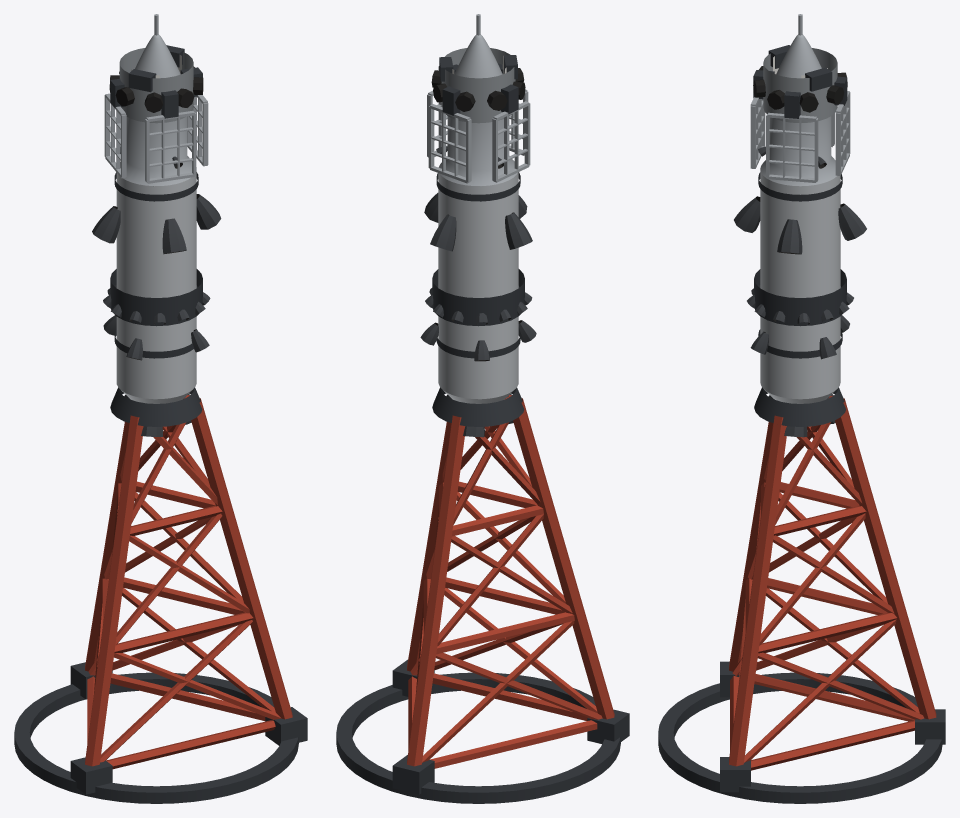
File: les_mercury.glb
The picture shows the model from 3 angles, left to right: view 1: azimuth 30°, elevation 25°; view 2: azimuth 150°, elevation 25°; view 3: azimuth 270°, elevation 25°; orthographic projection.
Parts seen in each view (by area): view 1: body, slot_steering__gridfins, slot_steering__acm, slot_motor__ring, slot_motor__staged, slot_motor__reverse, slot_steering__canards; view 2: body, slot_steering__gridfins, slot_steering__acm, slot_motor__ring, slot_motor__staged, slot_motor__reverse, slot_steering__canards; view 3: body, slot_steering__gridfins, slot_steering__acm, slot_motor__ring, slot_motor__staged, slot_motor__reverse, slot_steering__canards.
Part boxes in pixels (x1=…): body: x1=14, y1=14, x2=307, y2=803; slot_steering__gridfins: x1=104, y1=67, x2=208, y2=183; slot_steering__acm: x1=109, y1=48, x2=203, y2=123; slot_motor__ring: x1=103, y1=269, x2=210, y2=326; slot_motor__staged: x1=92, y1=194, x2=221, y2=360; slot_motor__reverse: x1=93, y1=194, x2=214, y2=253; slot_steering__canards: x1=128, y1=45, x2=184, y2=92; body: x1=336, y1=14, x2=629, y2=803; slot_steering__gridfins: x1=427, y1=63, x2=530, y2=183; slot_steering__acm: x1=431, y1=48, x2=525, y2=123; slot_motor__ring: x1=425, y1=269, x2=532, y2=326; slot_motor__staged: x1=420, y1=193, x2=536, y2=361; slot_motor__reverse: x1=426, y1=193, x2=532, y2=251; slot_steering__canards: x1=439, y1=55, x2=517, y2=81; body: x1=658, y1=14, x2=945, y2=803; slot_steering__gridfins: x1=750, y1=70, x2=850, y2=182; slot_steering__acm: x1=753, y1=48, x2=847, y2=122; slot_motor__ring: x1=747, y1=269, x2=853, y2=326; slot_motor__staged: x1=735, y1=197, x2=866, y2=359; slot_motor__reverse: x1=734, y1=196, x2=861, y2=254; slot_steering__canards: x1=768, y1=45, x2=832, y2=91.
Bounding box in the file's own units: 0.92 × 2.6 × 0.93.
